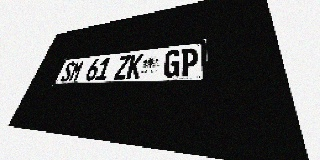1: (94, 57, 112, 81)
6: (84, 58, 102, 81)
G: (163, 49, 181, 78)
K: (126, 54, 144, 79)
M: (68, 60, 85, 82)
P: (180, 47, 198, 77)
S: (59, 61, 76, 82)
Z: (113, 55, 131, 80)
